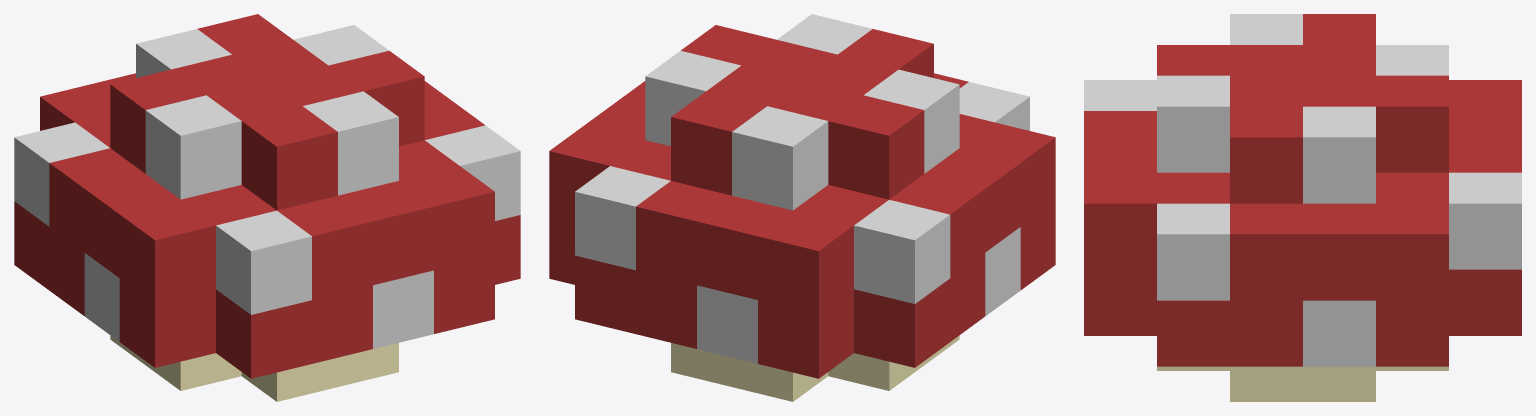
Rendered from Mushroom1_L.obj.
The picture shows the model from 3 angles, left to right: view 1: azimuth 30°, elevation 25°; view 2: azimuth 150°, elevation 25°; view 3: azimuth 270°, elevation 25°; orthographic projection. The views are drawn at different scales.
Parts seen in each view (by area): view 1: Mushroom1_L; view 2: Mushroom1_L; view 3: Mushroom1_L.
Boxes of the visible parts, left/top/right/bottom form: Mushroom1_L: left=14, top=14, right=520, bottom=401; Mushroom1_L: left=549, top=14, right=1055, bottom=401; Mushroom1_L: left=1084, top=14, right=1521, bottom=401.
Bounding box in the file's own units: 0.6 × 0.4 × 0.6.
Materials: 1 (1 with a texture image).
